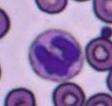N: (28, 28, 83, 82)
